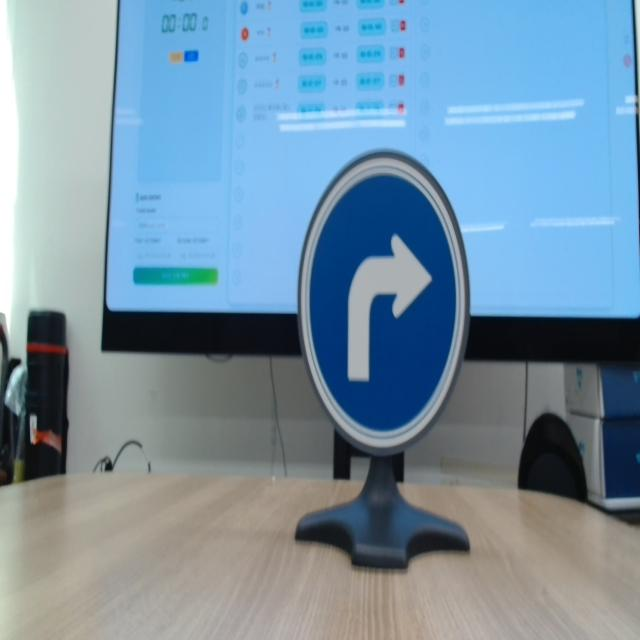right_dierection: (282, 132, 482, 472)
